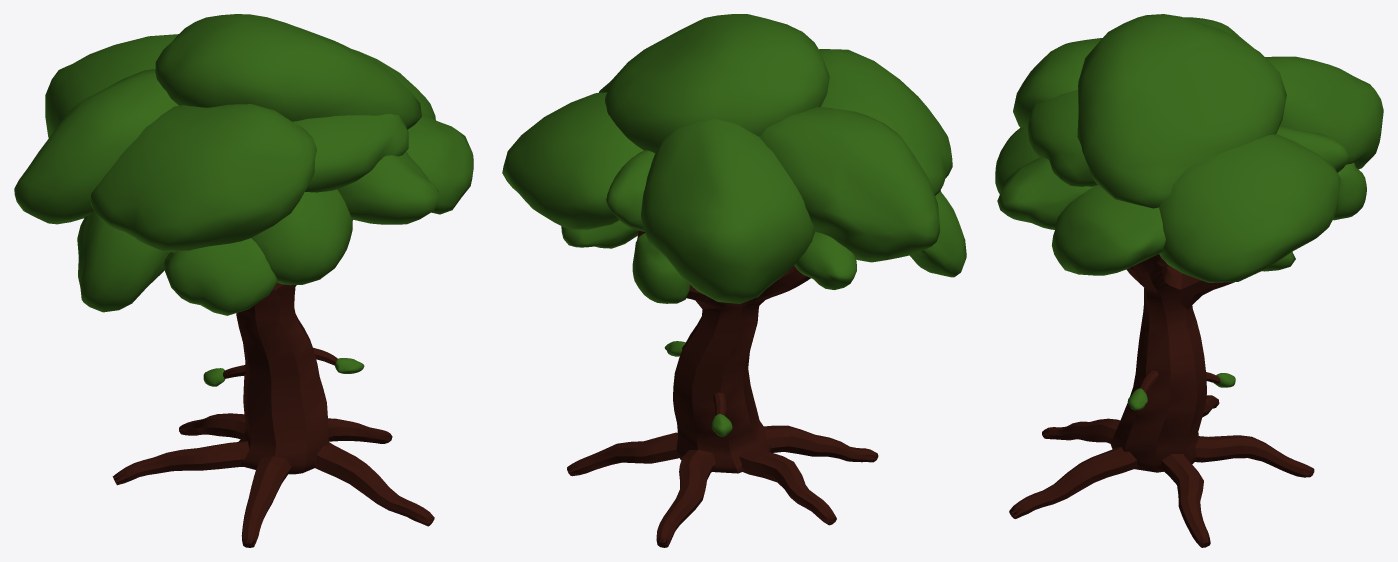
Rendered from obj_redwoodTREE.fbx.
3 renders of one model, left to right at view 1: azimuth 30°, elevation 25°; view 2: azimuth 150°, elevation 25°; view 3: azimuth 270°, elevation 25°, orthographic. The views are drawn at different scales.
Parts seen in each view (by area): view 1: obj_redwoodTREE; view 2: obj_redwoodTREE; view 3: obj_redwoodTREE.
Boxes of the visible parts, x1,y1,x2,y2 form: obj_redwoodTREE: (14, 14, 473, 547); obj_redwoodTREE: (502, 14, 966, 547); obj_redwoodTREE: (995, 14, 1383, 547).
Size of the model in its own units: 12.73 by 13.64 by 10.72.
